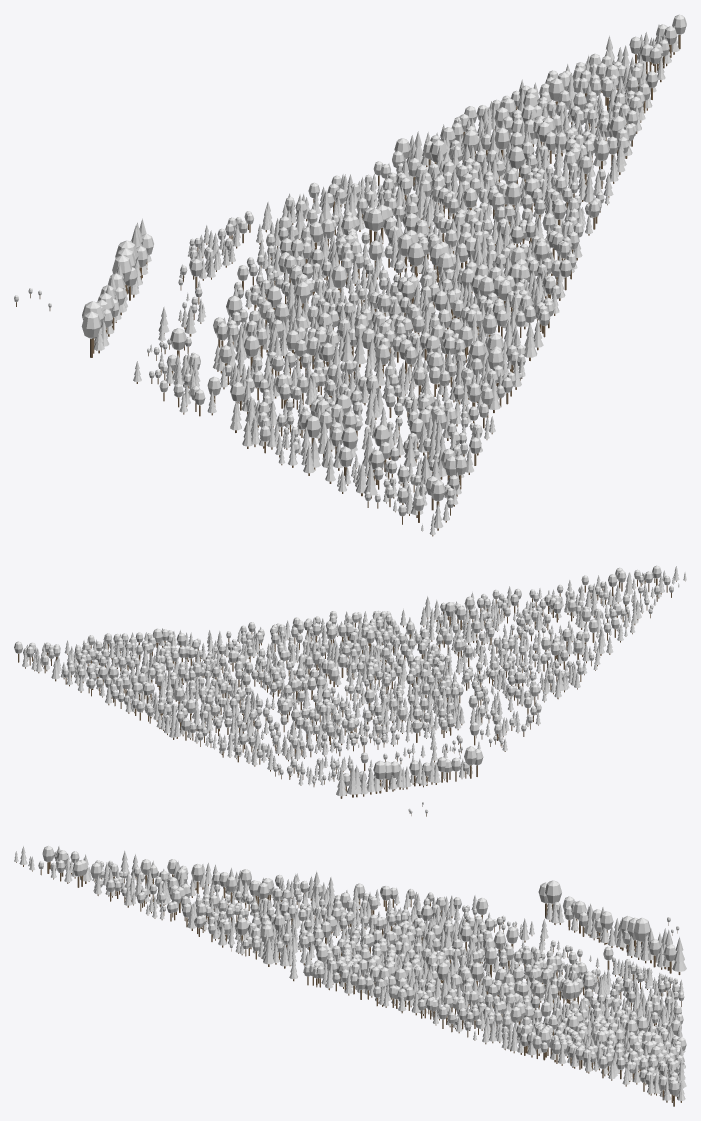
The model's file is stromy.glb.
3 renders of one model, top to bottom at view 1: azimuth 30°, elevation 25°; view 2: azimuth 150°, elevation 25°; view 3: azimuth 270°, elevation 25°, orthographic. The views are drawn at different scales.
Parts seen in each view (by area): view 1: Stromy_Listnate_07_04, Stromy_Ihlicnate_07_04; view 2: Stromy_Listnate_07_04, Stromy_Ihlicnate_07_04; view 3: Stromy_Listnate_07_04, Stromy_Ihlicnate_07_04.
Boxes of the visible parts, bbox=[...] form: Stromy_Listnate_07_04: bbox=[14, 14, 686, 524]; Stromy_Ihlicnate_07_04: bbox=[93, 24, 679, 536]; Stromy_Listnate_07_04: bbox=[14, 565, 673, 816]; Stromy_Ihlicnate_07_04: bbox=[22, 566, 686, 798]; Stromy_Listnate_07_04: bbox=[38, 845, 686, 1106]; Stromy_Ihlicnate_07_04: bbox=[14, 846, 686, 1102].
Size of the model in its own units: 346 by 61.47 by 379.
